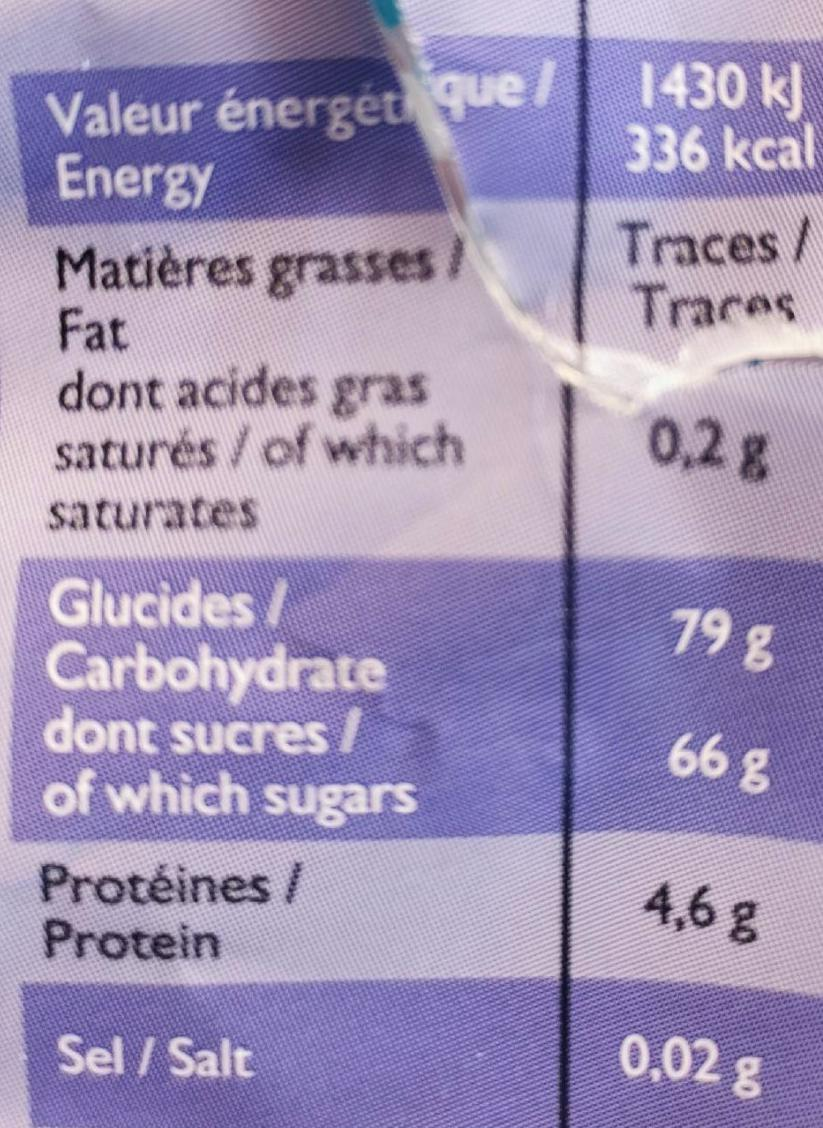column: (26, 61, 541, 1083), (613, 49, 809, 1089)
line: (45, 379, 803, 533), (32, 59, 811, 195), (36, 235, 820, 354), (43, 577, 789, 697), (40, 713, 800, 821), (45, 869, 781, 969), (54, 1017, 786, 1092)
table: (5, 35, 823, 1128)
